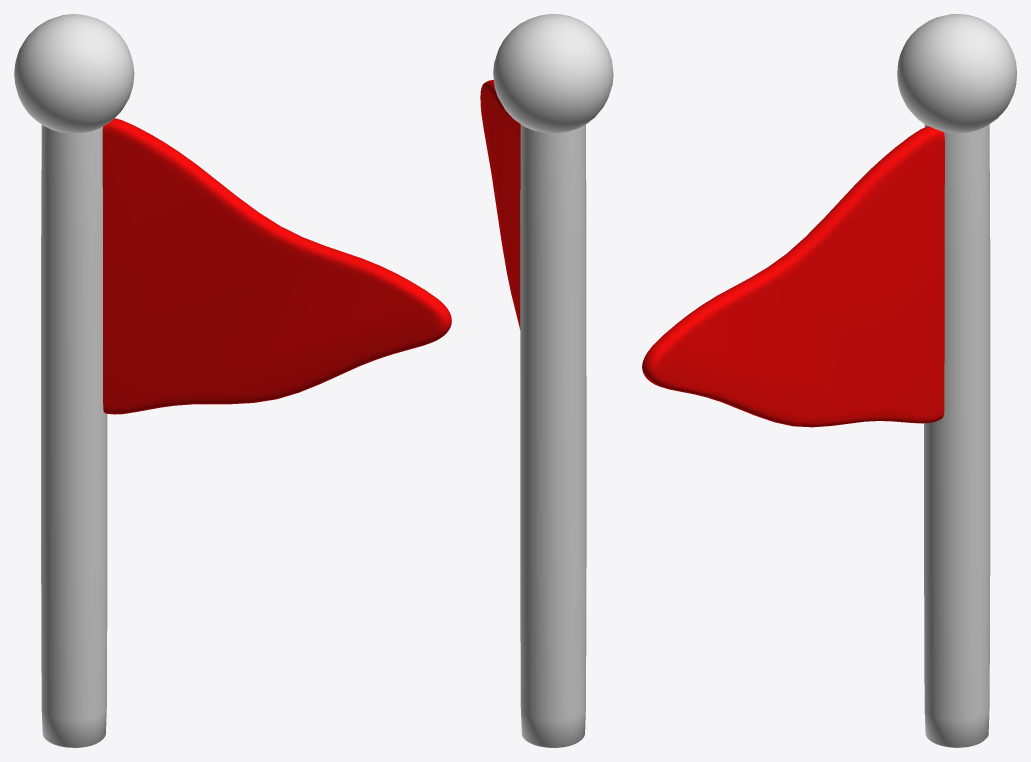
Rendered from Flag.fbx.
3 renders of one model, left to right at view 1: azimuth 30°, elevation 25°; view 2: azimuth 150°, elevation 25°; view 3: azimuth 270°, elevation 25°, orthographic.
Visible parts, largest first — view 1: Cube.011; view 2: Cube.011; view 3: Cube.011.
Boxes of the visible parts, x1,y1,x2,y2 form: Cube.011: [14, 14, 451, 747]; Cube.011: [480, 14, 613, 747]; Cube.011: [642, 14, 1016, 747].
Size of the model in its own units: 65.7 by 163 by 77.26.
